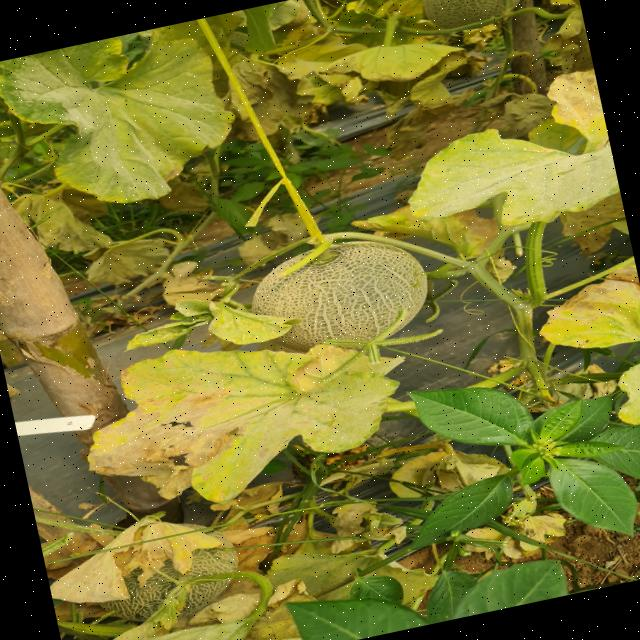melon: (251, 242, 428, 350)
